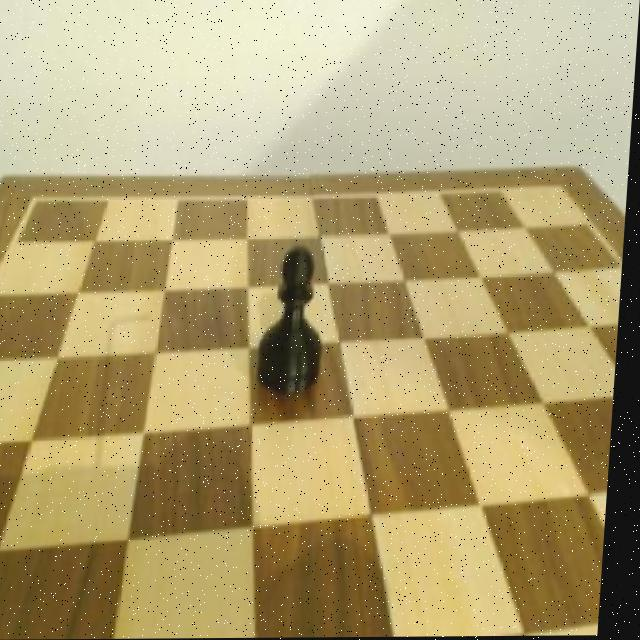black-knight: (254, 230, 336, 402)
